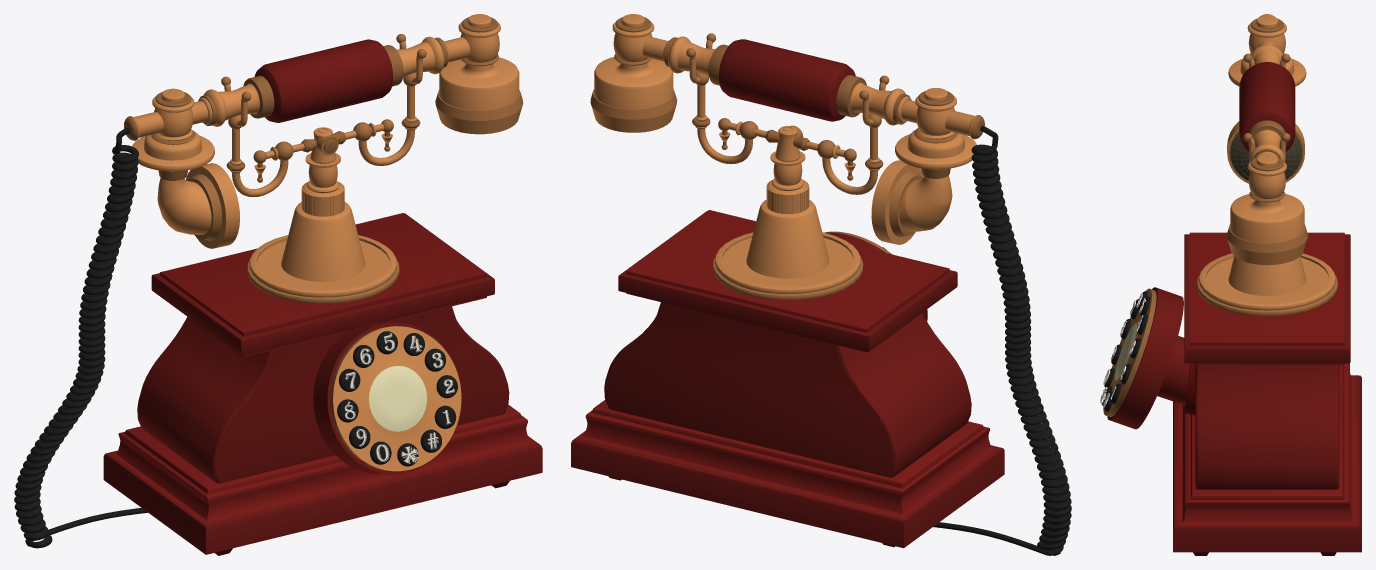
Rendered from antique_telephone.glb.
3 views of the same model, side by side, from view 1: azimuth 30°, elevation 25°; view 2: azimuth 150°, elevation 25°; view 3: azimuth 270°, elevation 25° (orthographic). The views are drawn at different scales.
Visible parts, largest first — view 1: Cube.001_38, Cube.006_40, Cube_37, Circle.033_42, Circle.035_46, Cylinder.009_13, Circle.002_2, Circle.001_1, Circle.040_43, Cylinder.011_23, Circle.031_31, Circle.032_41 (+18 smaller); view 2: Cube.006_40, Cube.001_38, Cube_37, Circle.035_46, Cylinder.009_13, Circle.002_2, Circle.001_1, Cylinder.011_23, Circle.031_31, Circle.036_52, Circle.003_54, Cylinder.012_24 (+15 smaller); view 3: Cube.006_40, Cube.001_38, Cube_37, Circle.032_41, Circle.001_1, Cylinder.009_13, Cylinder.011_23, Circle.002_2, Circle.033_42, Cylinder.012_24, Circle.046_44, Circle.031_31 (+10 smaller).
Part boxes in pixels (x1,y1,x2,y2): Cube.001_38: [103, 404, 542, 554]; Cube.006_40: [137, 306, 509, 483]; Cube_37: [151, 213, 494, 357]; Circle.033_42: [330, 326, 461, 471]; Circle.035_46: [14, 145, 138, 548]; Cylinder.009_13: [254, 39, 393, 122]; Circle.002_2: [281, 202, 365, 281]; Circle.001_1: [249, 235, 396, 297]; Circle.040_43: [337, 331, 457, 466]; Cylinder.011_23: [439, 57, 519, 110]; Circle.031_31: [203, 36, 444, 126]; Circle.032_41: [313, 322, 461, 474]; Cube.006_40: [604, 302, 971, 477]; Cube.001_38: [571, 400, 1004, 548]; Cube_37: [618, 210, 957, 352]; Circle.035_46: [971, 144, 1071, 551]; Cylinder.009_13: [719, 39, 855, 121]; Circle.002_2: [746, 199, 829, 278]; Circle.001_1: [715, 232, 860, 293]; Cylinder.011_23: [594, 57, 673, 109]; Circle.031_31: [668, 36, 906, 125]; Circle.036_52: [871, 160, 923, 244]; Circle.003_54: [899, 175, 952, 231]; Cylinder.012_24: [590, 89, 677, 132]; Cube.006_40: [1195, 365, 1339, 489]; Cube.001_38: [1173, 363, 1361, 552]; Cube_37: [1184, 232, 1350, 364]; Circle.032_41: [1107, 287, 1183, 429]; Circle.001_1: [1199, 253, 1335, 310]; Cylinder.009_13: [1239, 62, 1295, 151]; Cylinder.011_23: [1230, 194, 1304, 243]; Circle.002_2: [1228, 256, 1306, 295]; Circle.033_42: [1103, 288, 1156, 417]; Cylinder.012_24: [1226, 224, 1307, 265]; Circle.046_44: [1157, 336, 1195, 414]; Circle.031_31: [1248, 45, 1286, 161].
Bounding box in the file's own units: 6.99 × 5.97 × 3.49.
